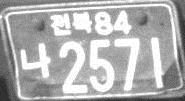1: (149, 36, 165, 90)
2: (57, 40, 89, 95)
4: (113, 9, 132, 36)
5: (88, 38, 116, 92)
7: (113, 37, 141, 91)
8: (93, 10, 113, 37)
나: (19, 41, 52, 79)
전북_O: (49, 12, 93, 37)
